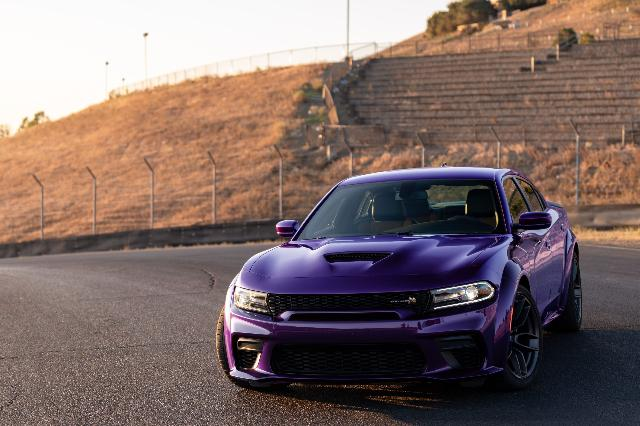dodge: (215, 166, 585, 395)
